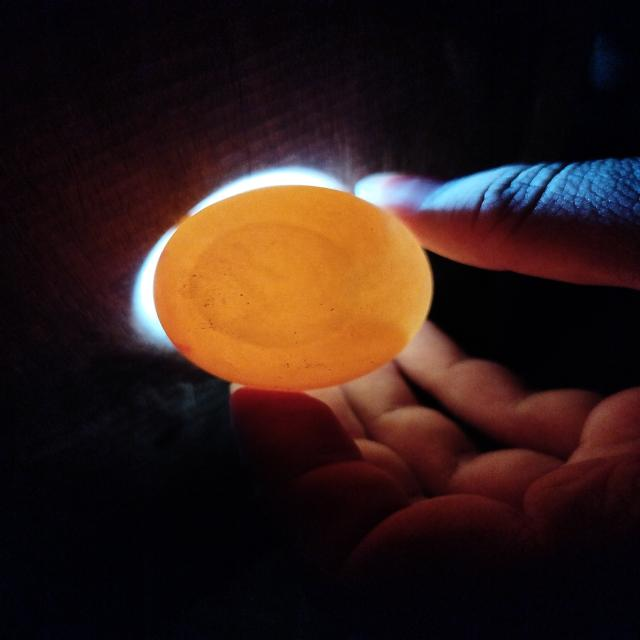Camara de Ar: (191, 224, 360, 348)
